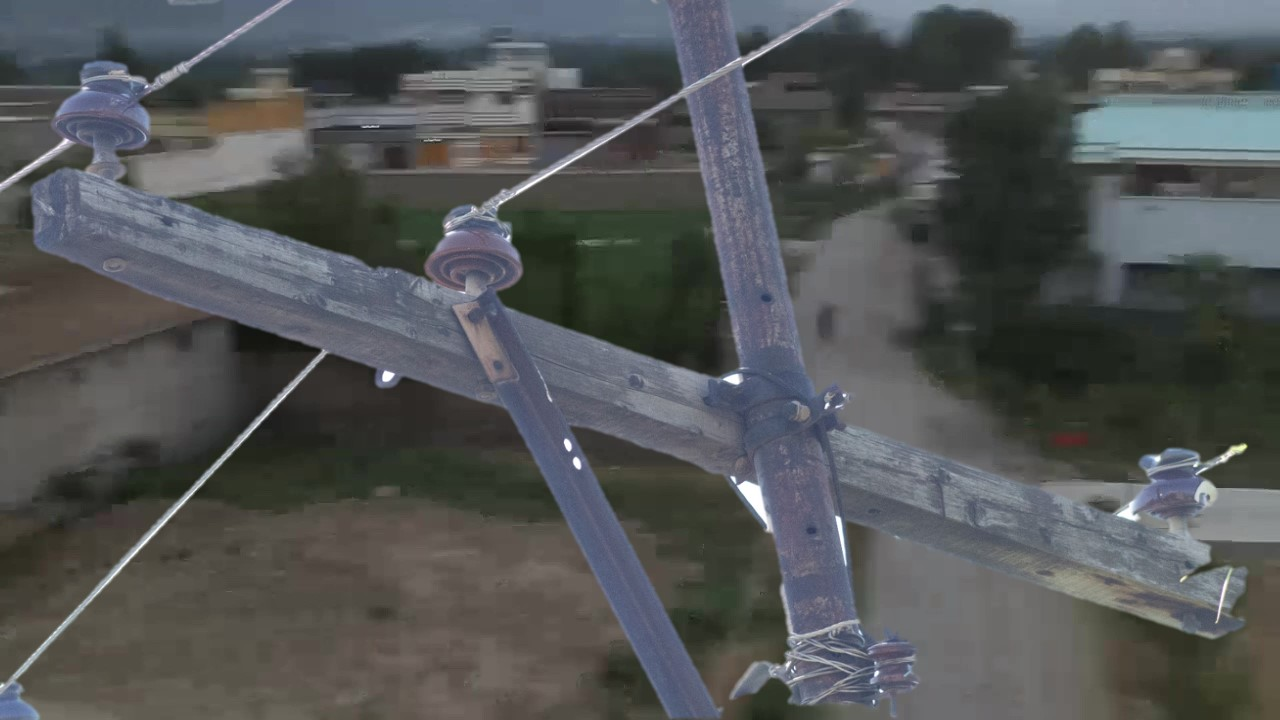defect_pin: (1124, 437, 1227, 522)
insulator_pin: (49, 50, 159, 158), (425, 201, 529, 300)
